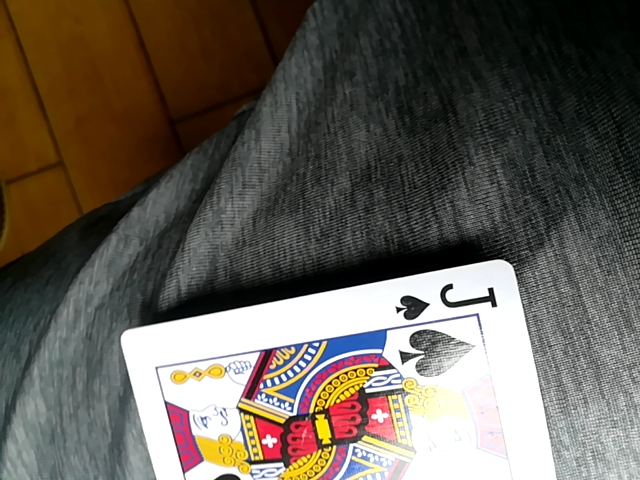ht j: (125, 257, 562, 480)
